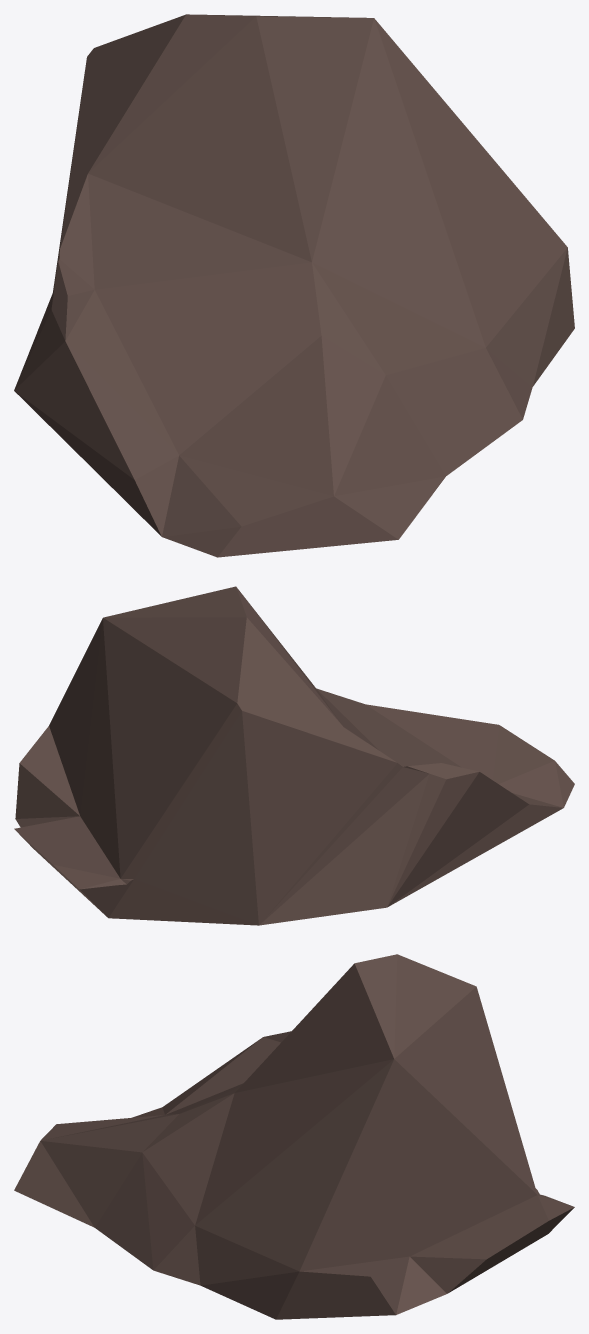
File: Cliff shard 7.fbx
3 renders of one model, top to bottom at view 1: azimuth 30°, elevation 25°; view 2: azimuth 150°, elevation 25°; view 3: azimuth 270°, elevation 25°, orthographic. The views are drawn at different scales.
Visible parts, largest first — view 1: Cliff shard 7; view 2: Cliff shard 7; view 3: Cliff shard 7.
Part boxes in pixels (<box>): Cliff shard 7: <box>14,14,574,557</box>; Cliff shard 7: <box>14,586,574,925</box>; Cliff shard 7: <box>14,954,574,1319</box>.
Size of the model in its own units: 0.7394 by 0.4507 by 0.8897.
